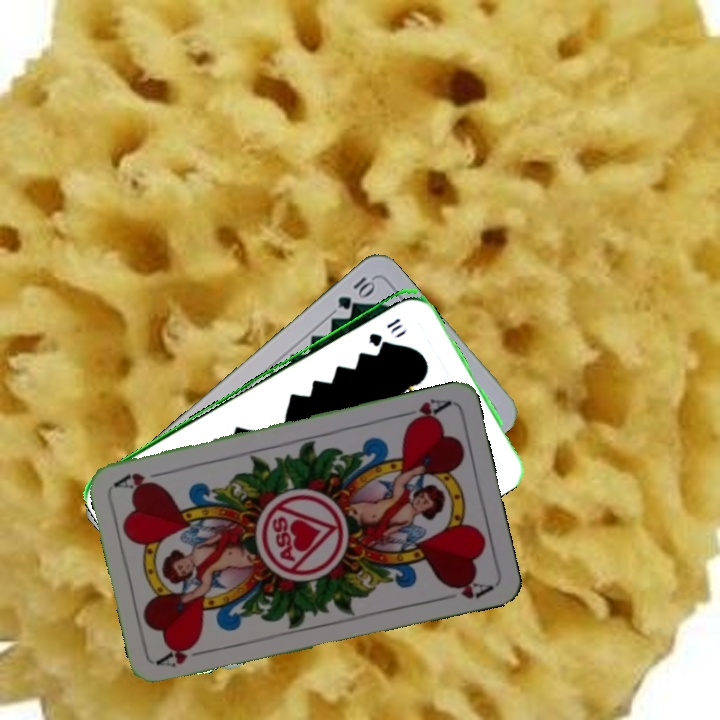G10: (333, 272, 378, 312), (364, 314, 403, 347)
HA: (395, 394, 453, 428), (154, 639, 212, 670)
